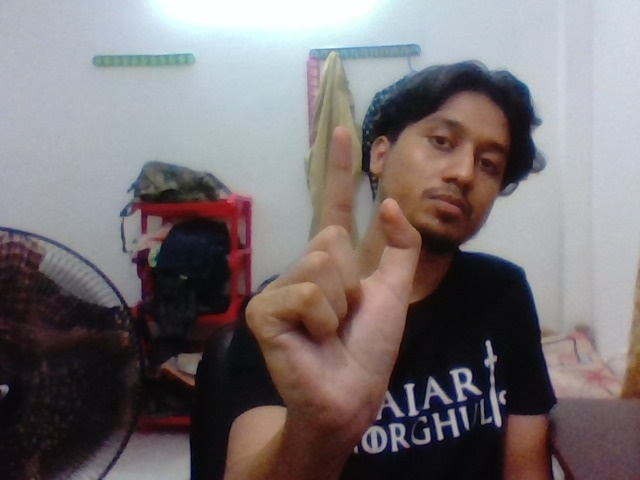J: (263, 129, 428, 377)
